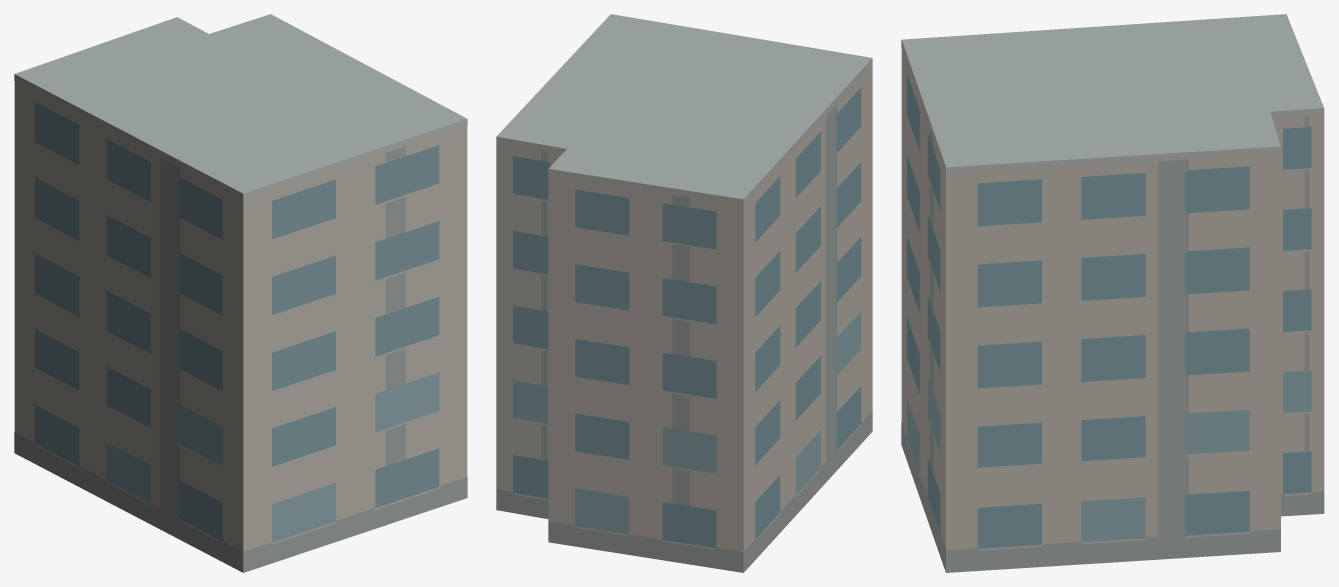
File: survey-upis-33008960.glb
3 renders of one model, left to right at view 1: azimuth 30°, elevation 25°; view 2: azimuth 150°, elevation 25°; view 3: azimuth 270°, elevation 25°, orthographic. The views are drawn at different scales.
Parts seen in each view (by area): view 1: survey-upis-33008960.tmp; view 2: survey-upis-33008960.tmp; view 3: survey-upis-33008960.tmp.
Part boxes in pixels (bbox=[...]): survey-upis-33008960.tmp: bbox=[14, 14, 467, 572]; survey-upis-33008960.tmp: bbox=[496, 14, 872, 572]; survey-upis-33008960.tmp: bbox=[901, 14, 1324, 572].
Size of the model in its own units: 10.8 by 13.3 by 12.58.
